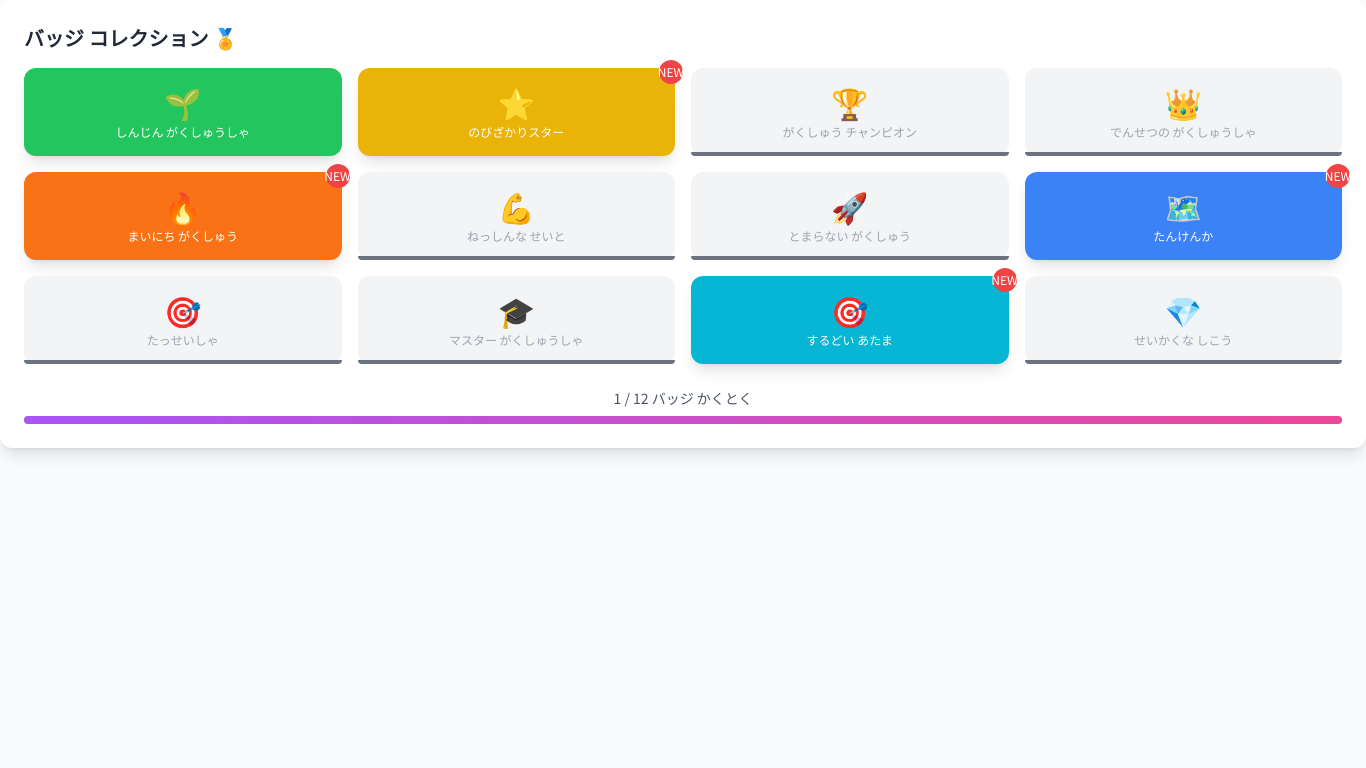
Test: BadgeReward › displays progress bar for locked badges
Click the button "🏆 がくしゅう チャンピオン" at point(850, 112), box [691, 68, 1008, 156]
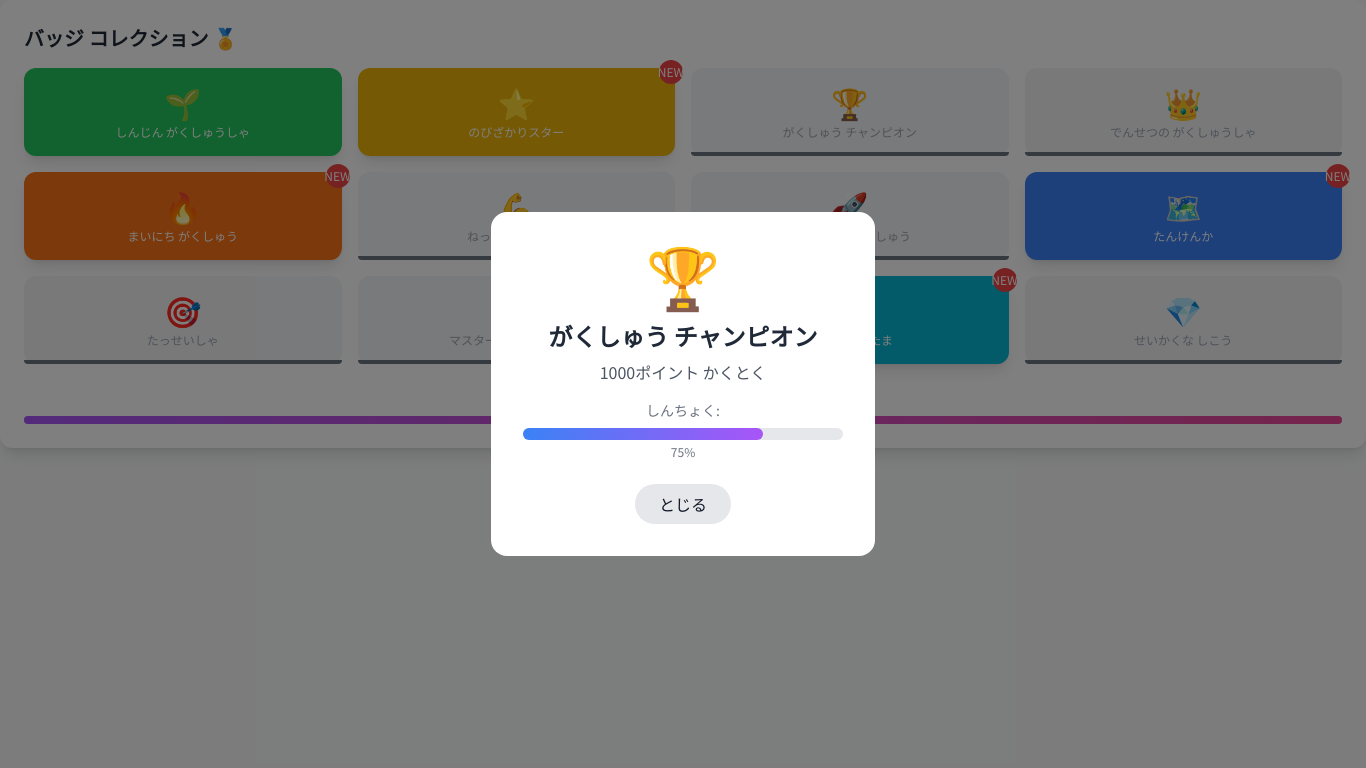
Expected: the text "75%" is shown, [671, 443, 695, 460]
